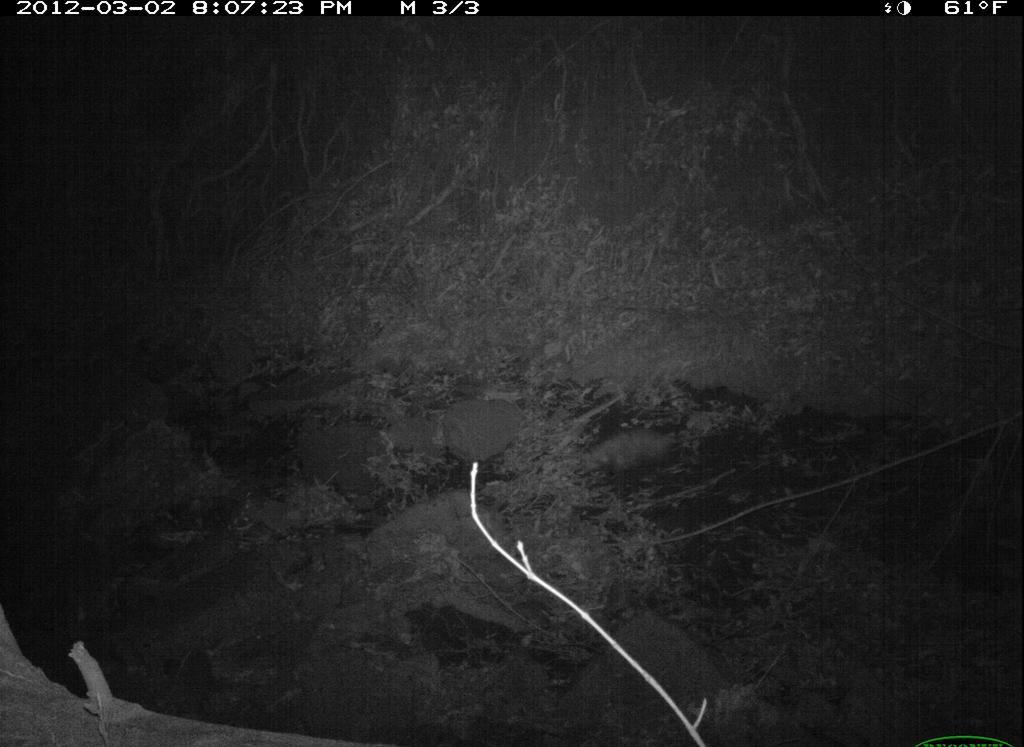opossum: (578, 411, 694, 489)
